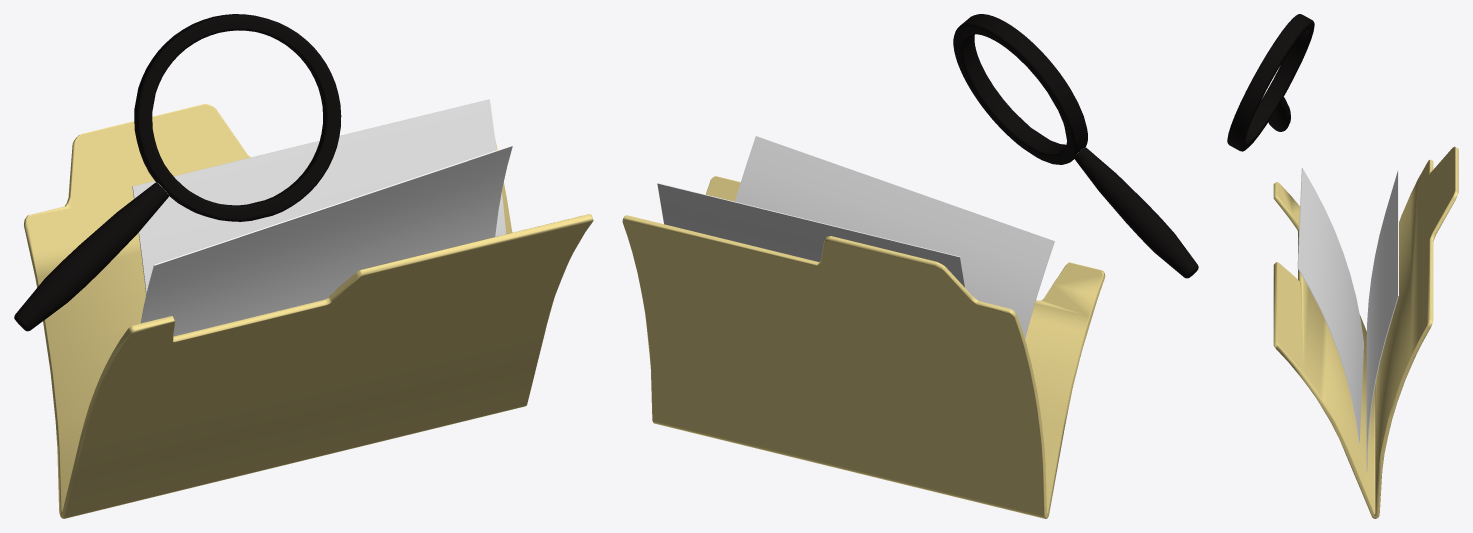
Rendered from model3d1_simple.glb.
3 views of the same model, side by side, from view 1: azimuth 30°, elevation 25°; view 2: azimuth 150°, elevation 25°; view 3: azimuth 270°, elevation 25° (orthographic). The views are drawn at different scales.
Parts seen in each view (by area): view 1: Folder, Magnifying_Glass (1); view 2: Folder, Magnifying_Glass (1); view 3: Folder, Magnifying_Glass (1).
Boxes of the visible parts, bbox=[...] form: Folder: bbox=[24, 99, 593, 518]; Magnifying_Glass (1): bbox=[14, 14, 341, 331]; Folder: bbox=[622, 136, 1105, 518]; Magnifying_Glass (1): bbox=[953, 14, 1198, 278]; Folder: bbox=[1273, 146, 1458, 518]; Magnifying_Glass (1): bbox=[1227, 14, 1314, 151].
Size of the model in its own units: 14.19 by 12.23 by 6.85.
Materials: 1 (1 with a texture image).
